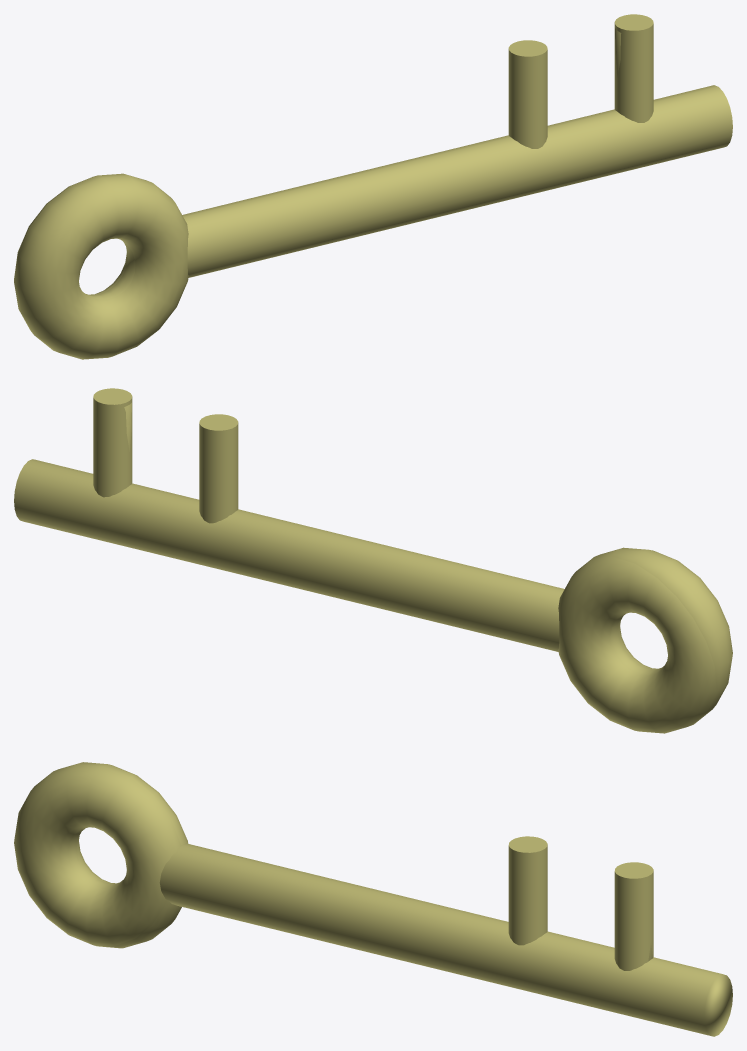
File: Key.fbx
3 views of the same model, one above another, from view 1: azimuth 30°, elevation 25°; view 2: azimuth 150°, elevation 25°; view 3: azimuth 330°, elevation 25° (orthographic).
Parts seen in each view (by area): view 1: pCylinder6, pTorus1, pasted__pCylinder3, pCylinder3, pTorus2; view 2: pCylinder6, pTorus1, pasted__pCylinder3, pCylinder3, pTorus2; view 3: pCylinder6, pTorus1, pasted__pCylinder3, pCylinder3, pTorus2.
Boxes of the visible parts, <box> form: pCylinder6: <box>182,85,732,277</box>; pTorus1: <box>14,173,188,359</box>; pasted__pCylinder3: <box>508,40,547,148</box>; pCylinder3: <box>614,14,653,122</box>; pTorus2: <box>14,173,188,359</box>; pCylinder6: <box>14,459,564,651</box>; pTorus1: <box>558,547,732,733</box>; pasted__pCylinder3: <box>199,414,238,523</box>; pCylinder3: <box>93,388,132,497</box>; pTorus2: <box>588,551,723,716</box>; pCylinder6: <box>159,843,732,1036</box>; pTorus1: <box>14,762,188,945</box>; pasted__pCylinder3: <box>508,836,547,945</box>; pCylinder3: <box>614,862,653,970</box>; pTorus2: <box>69,762,181,948</box>.
Bounding box in the file's own units: 12.4 × 3.44 × 1.
